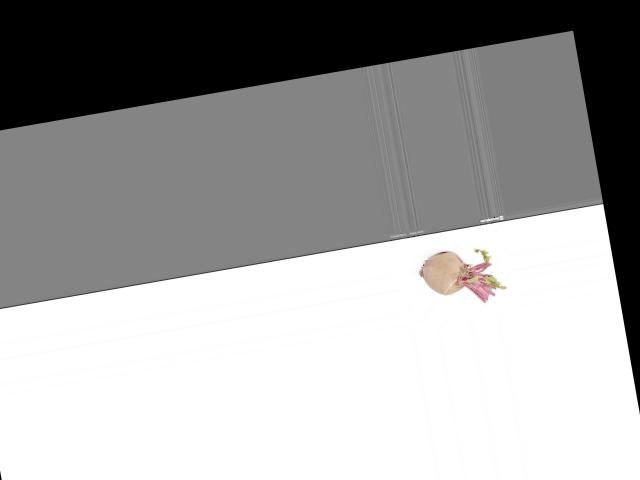beet: (415, 241, 508, 313)
